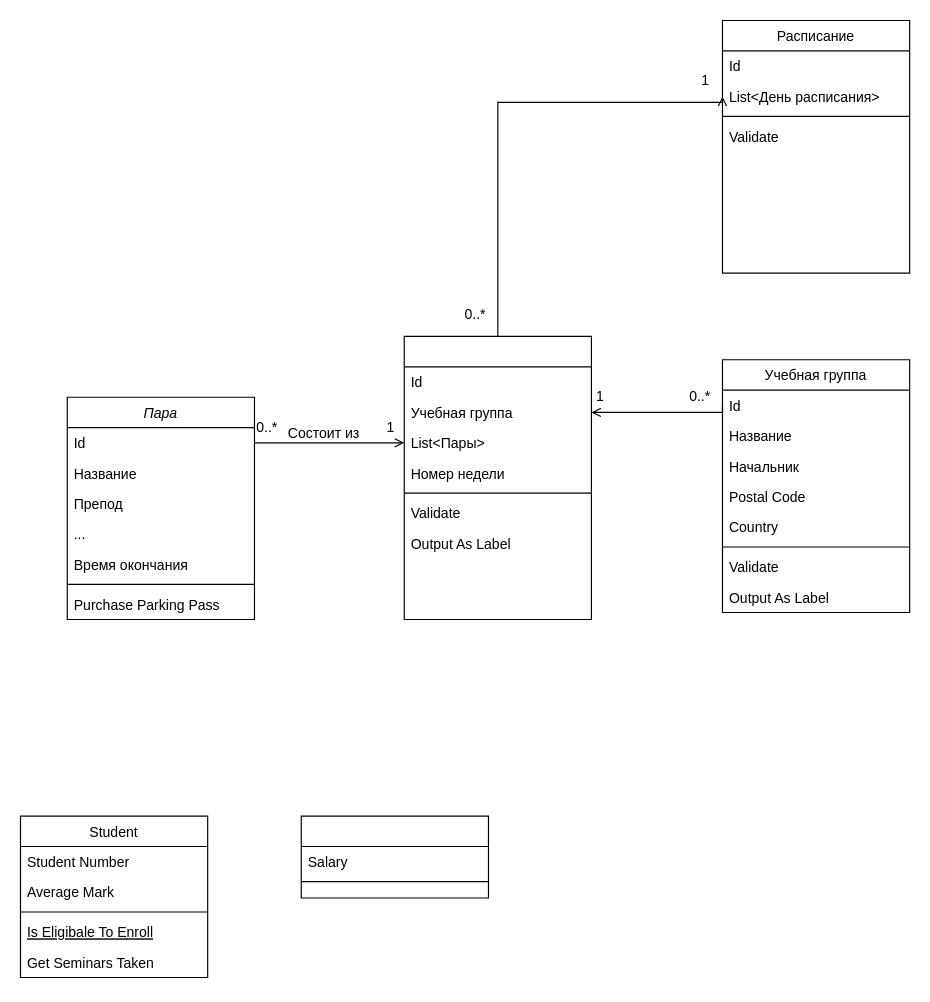
This 930x1002 diagram has some shape labels left out. Here are the shapes that lost their labels. From the top down, the box of each, then its label:
(403, 335, 591, 620): День расписания
(300, 815, 488, 898): Professor
